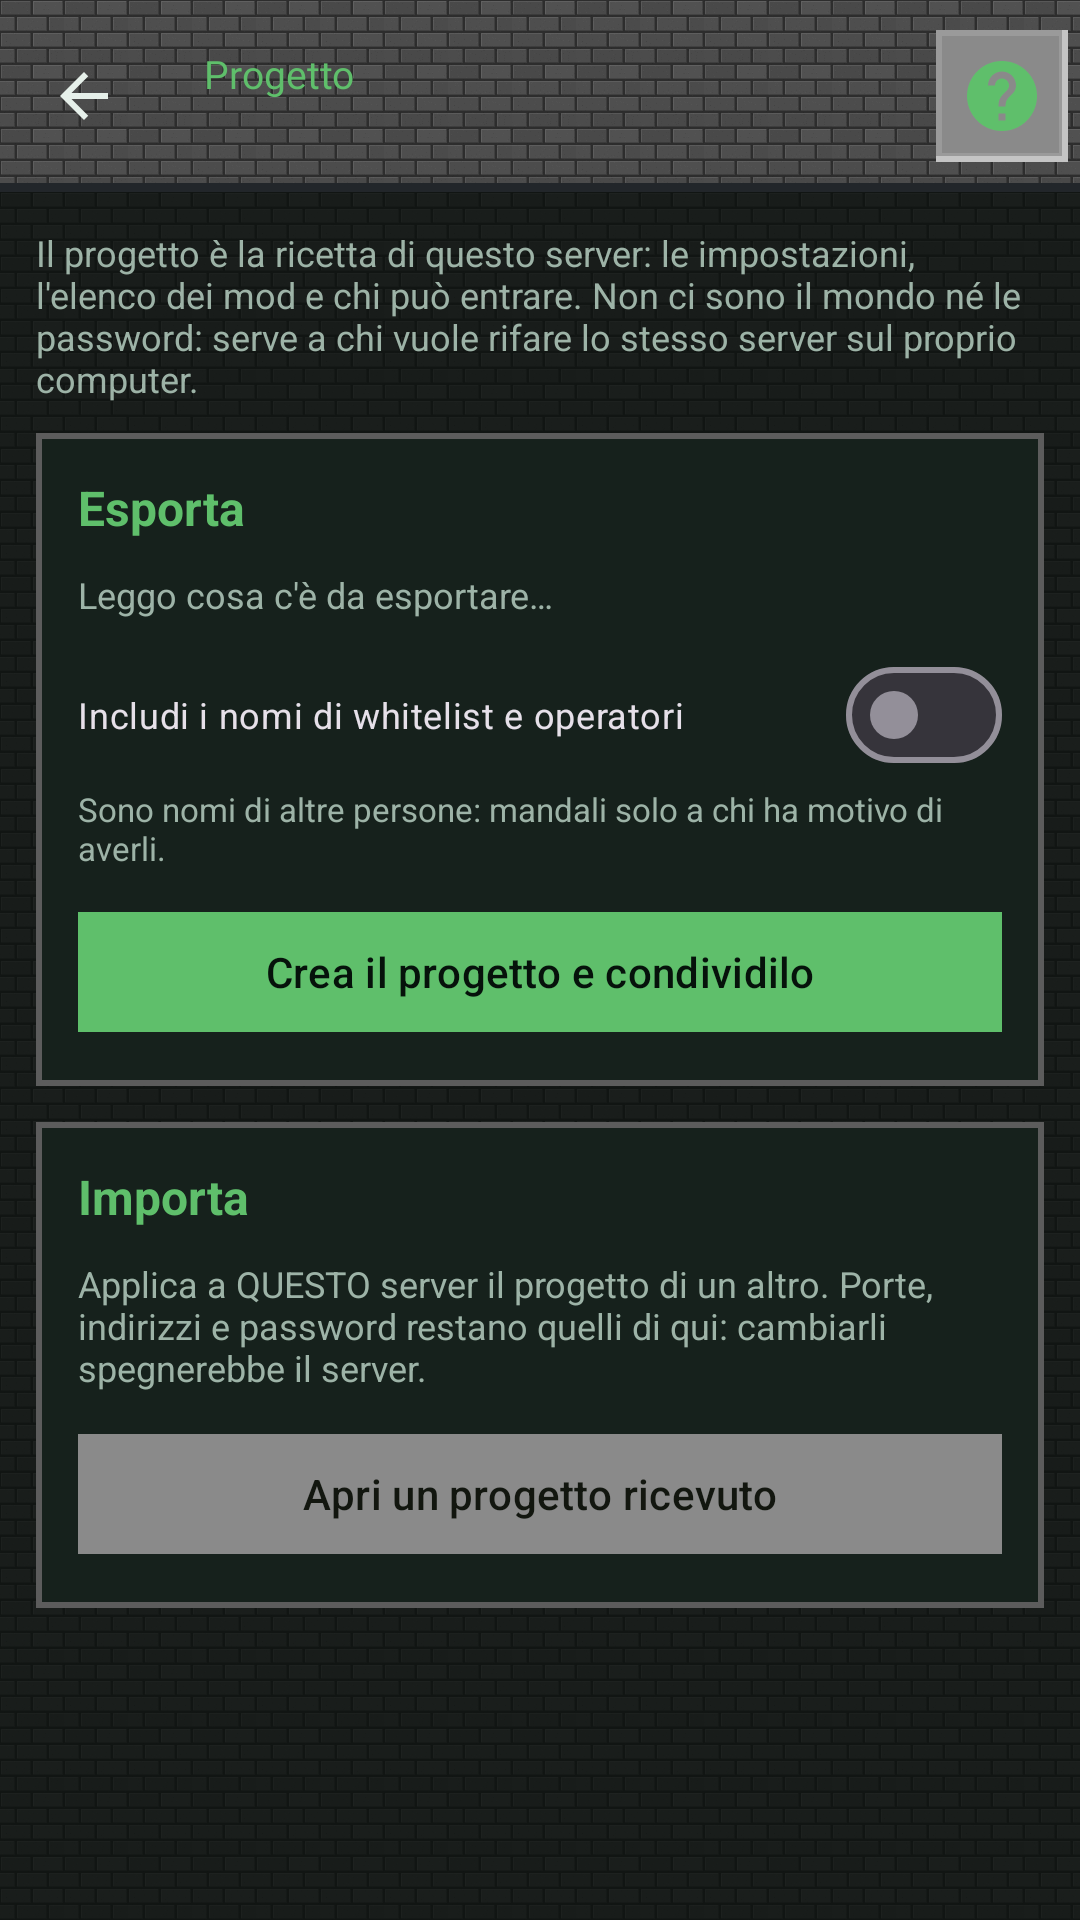

Where to tap for icons on this 1080px×1920px app screen, as (x=x, y=y):
Aiuto su questa pagina: (x=1002, y=96)
